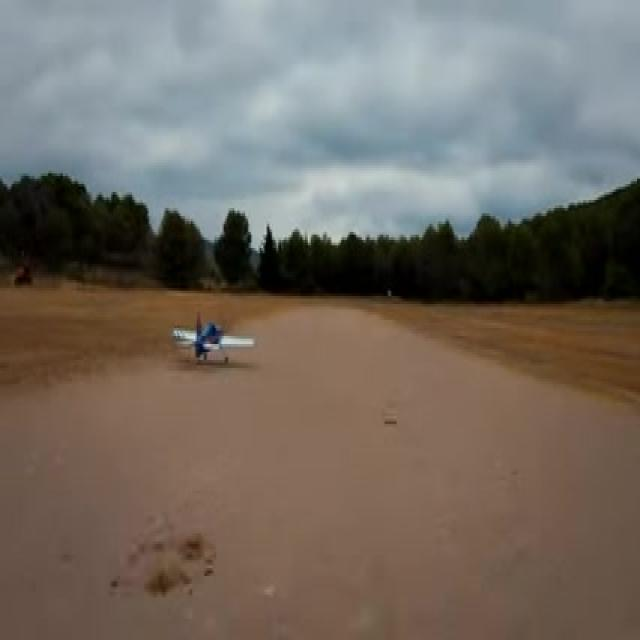iha: (201, 308, 225, 366)
